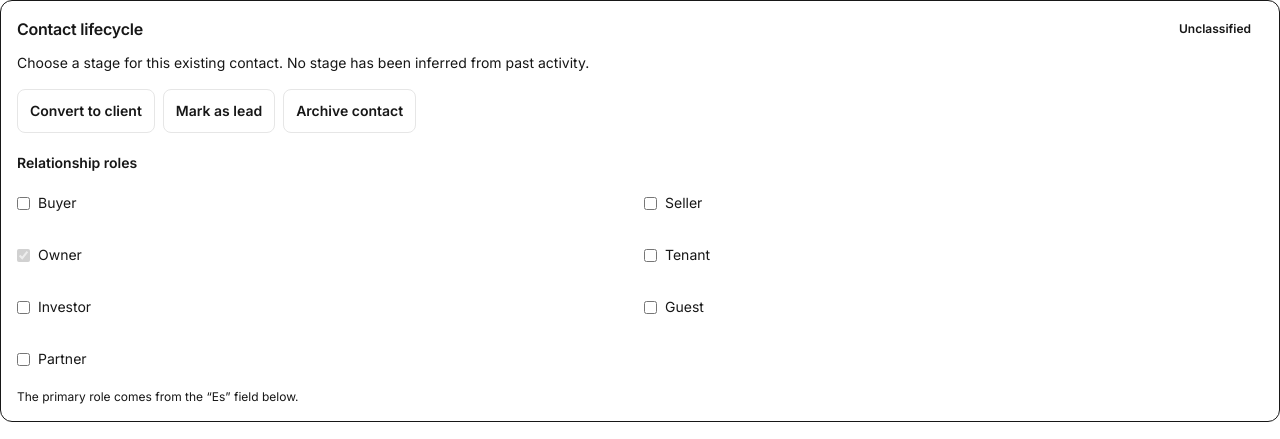
Test: contact lifecycle › converts without replacing the identity and restores the previous stage
Click the button "Convert to client".
click(86, 111)  # box [17,89,155,133]
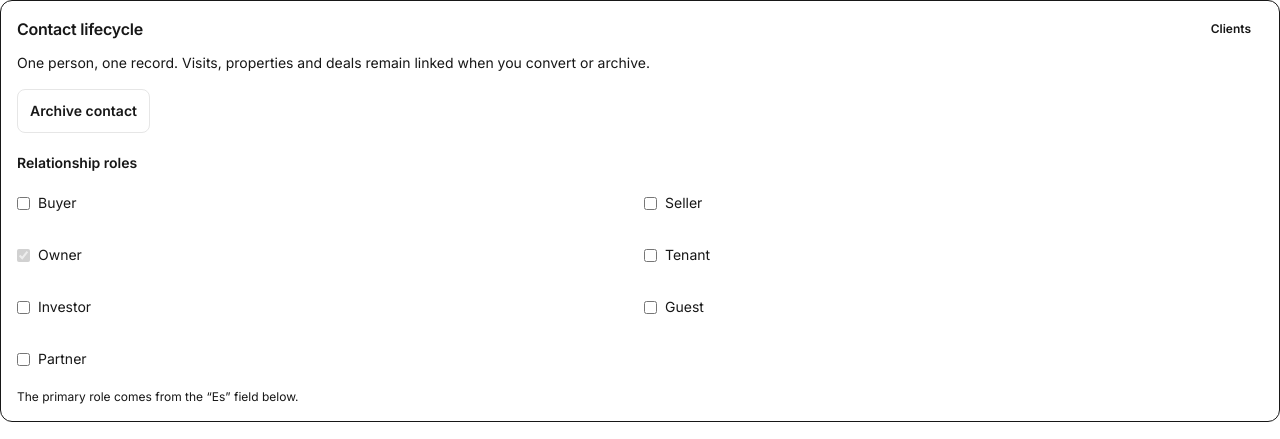
Expected: the message reads "Clients", [1211,21,1251,36]
Expected: the button "Convert to client" is gone
Click the button "Archive contact".
click(84, 111)  # box [17,89,150,133]
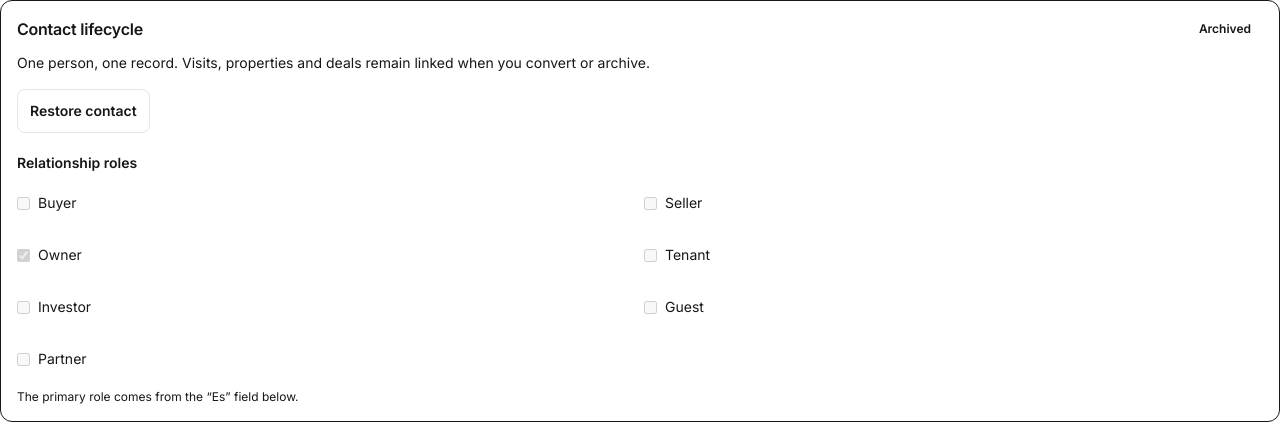
Expected: the message reads "Archived", [1199,21,1251,36]
Click the button "Restore contact".
click(83, 111)  # box [17,89,150,133]
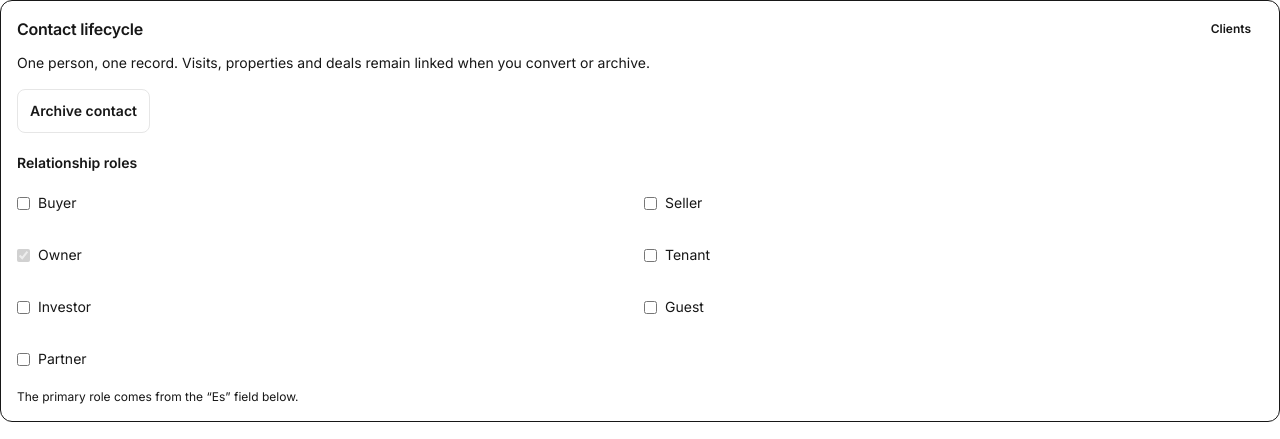
Expected: the message reads "Clients", [1211,21,1251,36]
